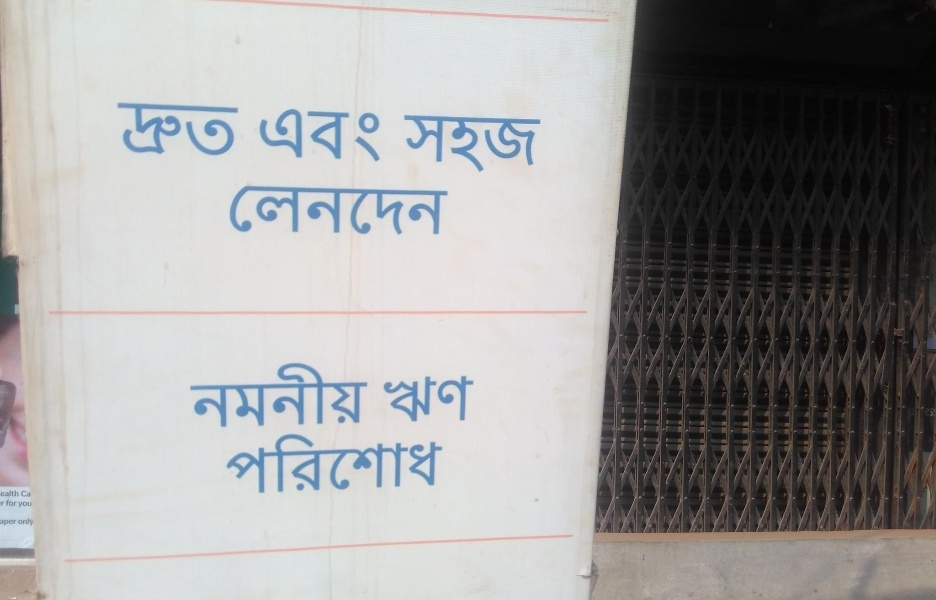text: (193, 360, 208, 431), (209, 360, 224, 431), (225, 360, 240, 431), (241, 360, 256, 431), (257, 360, 272, 431), (273, 360, 288, 431), (289, 360, 304, 431), (305, 360, 320, 431), (321, 360, 336, 431), (337, 360, 352, 431), (353, 360, 368, 431), (17, 482, 32, 553), (225, 432, 240, 495), (241, 432, 256, 495), (257, 432, 272, 495), (273, 432, 288, 495), (289, 432, 304, 495), (305, 432, 320, 495), (321, 432, 336, 495), (337, 432, 352, 495), (353, 432, 368, 495), (369, 432, 384, 495), (385, 432, 400, 495), (401, 432, 416, 495), (417, 432, 432, 495), (417, 113, 432, 174), (433, 113, 448, 174), (449, 113, 464, 174), (465, 113, 480, 174), (481, 113, 496, 174), (497, 113, 512, 174), (513, 113, 528, 174), (273, 103, 288, 163), (289, 103, 304, 163), (305, 103, 320, 163), (321, 103, 336, 163), (337, 103, 352, 163), (353, 103, 368, 163), (369, 103, 384, 163), (129, 101, 144, 160), (145, 101, 160, 160), (161, 101, 176, 160), (177, 101, 192, 160), (193, 101, 208, 160), (209, 101, 224, 160), (529, 113, 543, 174), (4, 482, 16, 553), (225, 101, 239, 160), (241, 183, 256, 236), (257, 183, 272, 236), (273, 183, 288, 236), (289, 183, 304, 236), (305, 183, 320, 236), (321, 183, 336, 236), (337, 183, 352, 236), (353, 183, 368, 236), (369, 183, 384, 236), (385, 183, 400, 236), (401, 183, 416, 236), (417, 183, 432, 236), (433, 183, 448, 236), (403, 113, 416, 174), (385, 375, 400, 426), (401, 375, 416, 426), (417, 375, 432, 426), (433, 375, 448, 426), (449, 375, 464, 426), (433, 432, 444, 495), (227, 183, 240, 236), (261, 103, 272, 163), (117, 101, 128, 160), (465, 375, 477, 426), (33, 482, 38, 553), (369, 360, 373, 431), (385, 103, 389, 163), (189, 360, 192, 431), (449, 183, 451, 236), (382, 375, 384, 426)
